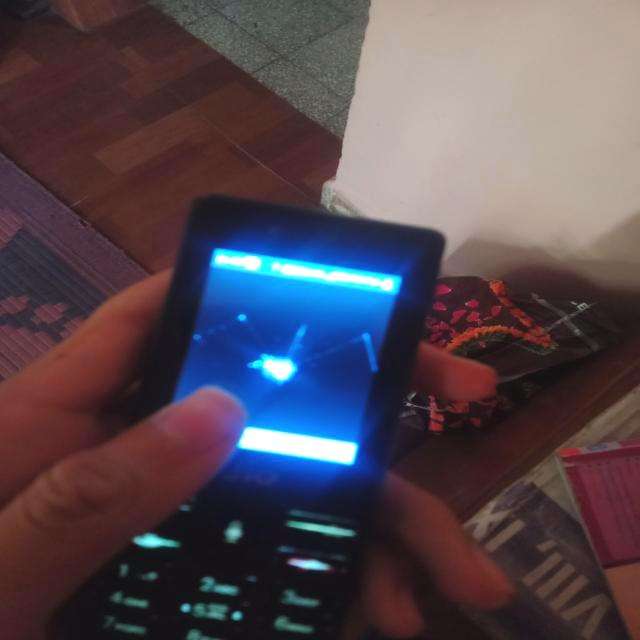phone: (95, 176, 448, 639)
